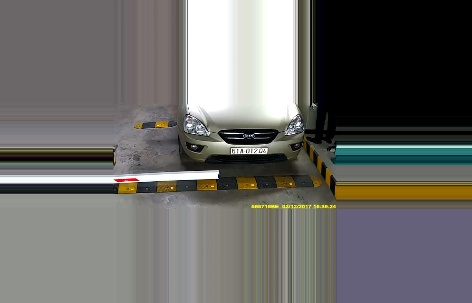plate: (229, 143, 270, 158)
